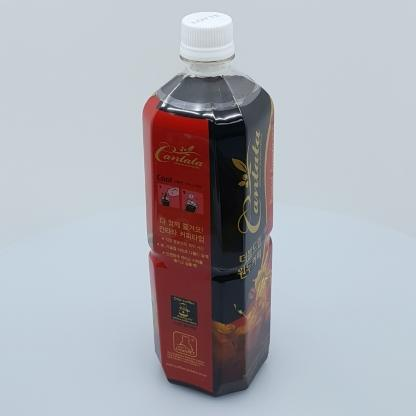-----------900ML: (142, 11, 274, 398)
